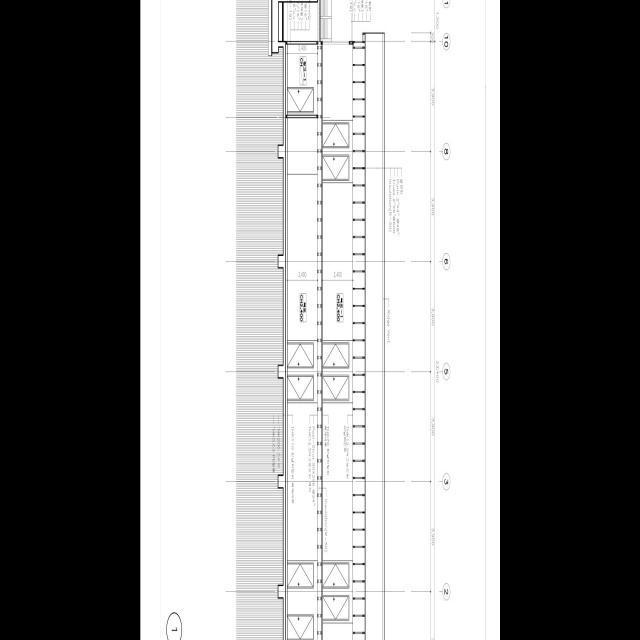background: (140, 0, 500, 640)
space_other: (321, 44, 353, 640), (286, 118, 317, 640), (286, 45, 317, 115)
